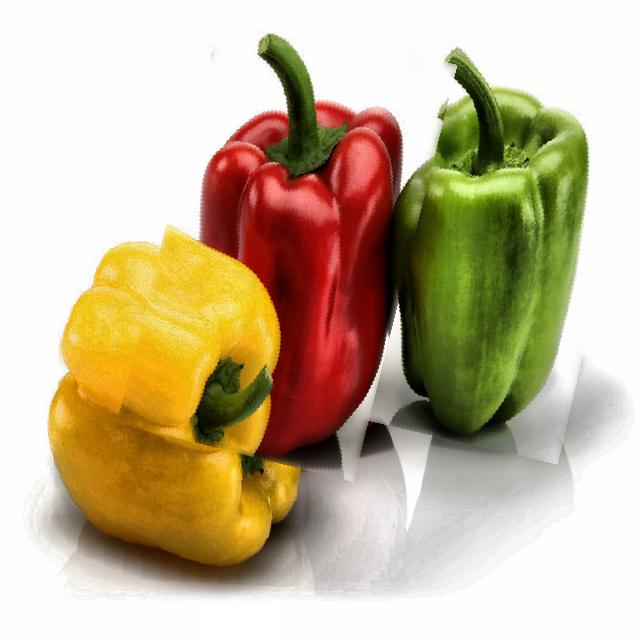capsicum: (141, 18, 433, 470), (360, 49, 624, 454), (53, 201, 316, 584)
